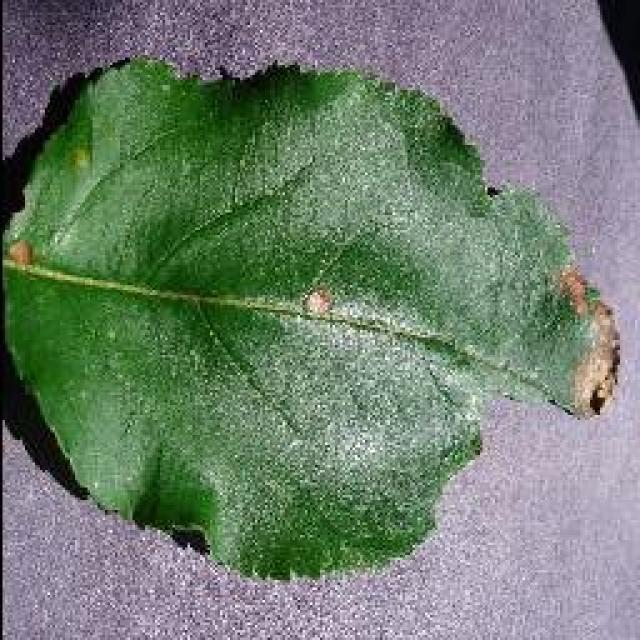apple black rot: (0, 52, 622, 582)
